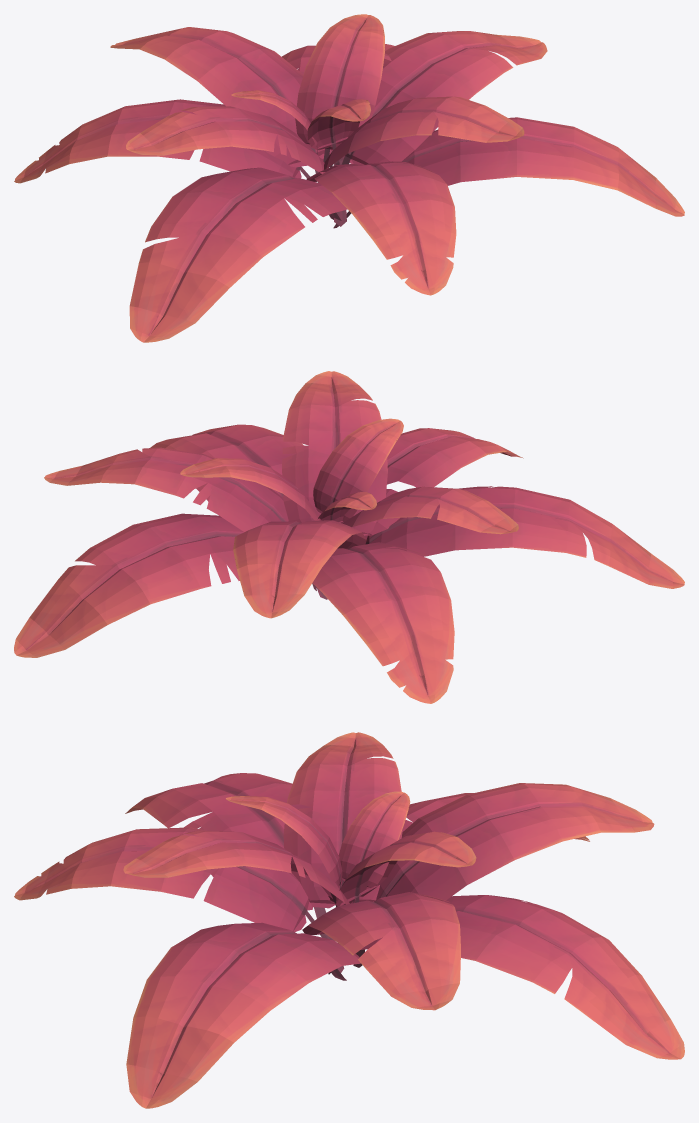
File: bushA.glb
3 renders of one model, top to bottom at view 1: azimuth 30°, elevation 25°; view 2: azimuth 150°, elevation 25°; view 3: azimuth 270°, elevation 25°, orthographic. The views are drawn at different scales.
Parts seen in each view (by area): view 1: bush_flat_B; view 2: bush_flat_B; view 3: bush_flat_B.
Part boxes in pixels (x1,y1,x2,y2): bush_flat_B: [14, 14, 684, 342]; bush_flat_B: [14, 371, 684, 703]; bush_flat_B: [14, 732, 684, 1108].
Size of the model in its own units: 6.58 by 1.77 by 6.25.
1 material, 1 textured.
